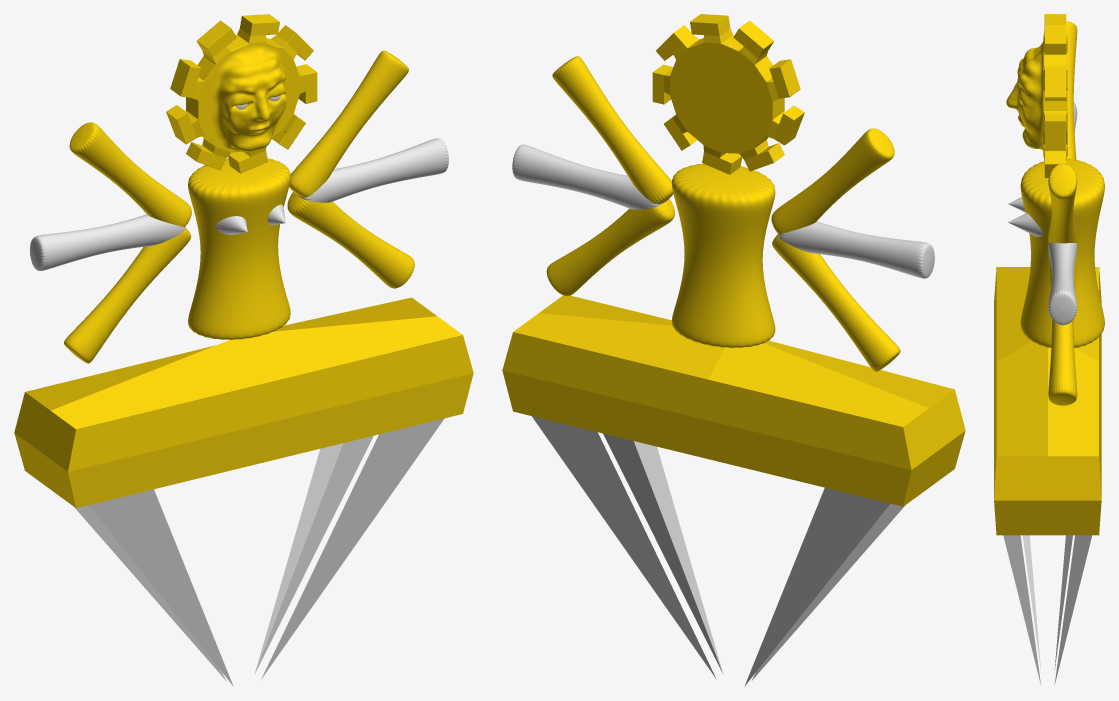
File: Gold.fbx
3 views of the same model, side by side, from view 1: azimuth 30°, elevation 25°; view 2: azimuth 150°, elevation 25°; view 3: azimuth 270°, elevation 25° (orthographic).
Parts seen in each view (by area): view 1: Cube, Cylinder.001, Sphere, Cylinder, Cone; view 2: Cube, Cylinder.001, Sphere, Cylinder; view 3: Cube, Cylinder, Cylinder.001, Sphere, Cone.
Part boxes in pixels (x1,y1,x2,y2): Cube: (14,297,473,686); Cylinder.001: (29,50,448,363); Sphere: (166,14,317,173); Cylinder: (188,158,290,339); Cone: (215,204,285,234); Cube: (502,295,965,686); Cylinder.001: (512,56,934,371); Sphere: (652,14,804,174); Cylinder: (671,163,775,347); Cube: (994,267,1101,684); Cylinder: (1020,158,1104,347); Cylinder.001: (1048,21,1077,405); Sphere: (1006,14,1067,177); Cone: (1008,197,1042,236).
Size of the model in its own units: 1088 by 1667 by 254.
